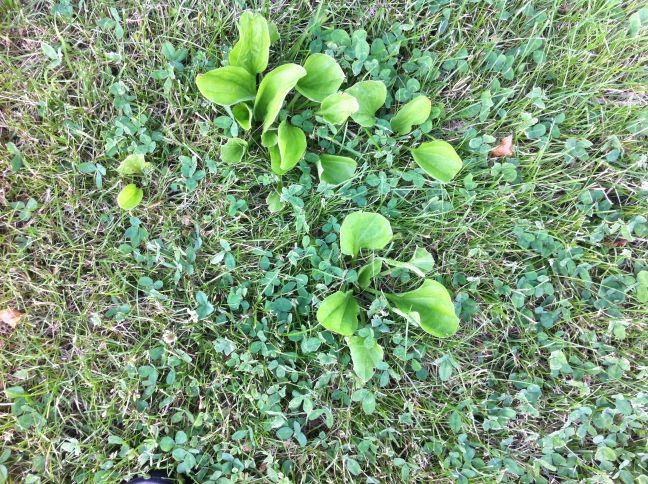weed1: (190, 7, 354, 188), (316, 208, 455, 379), (342, 74, 465, 188), (115, 153, 152, 211)
